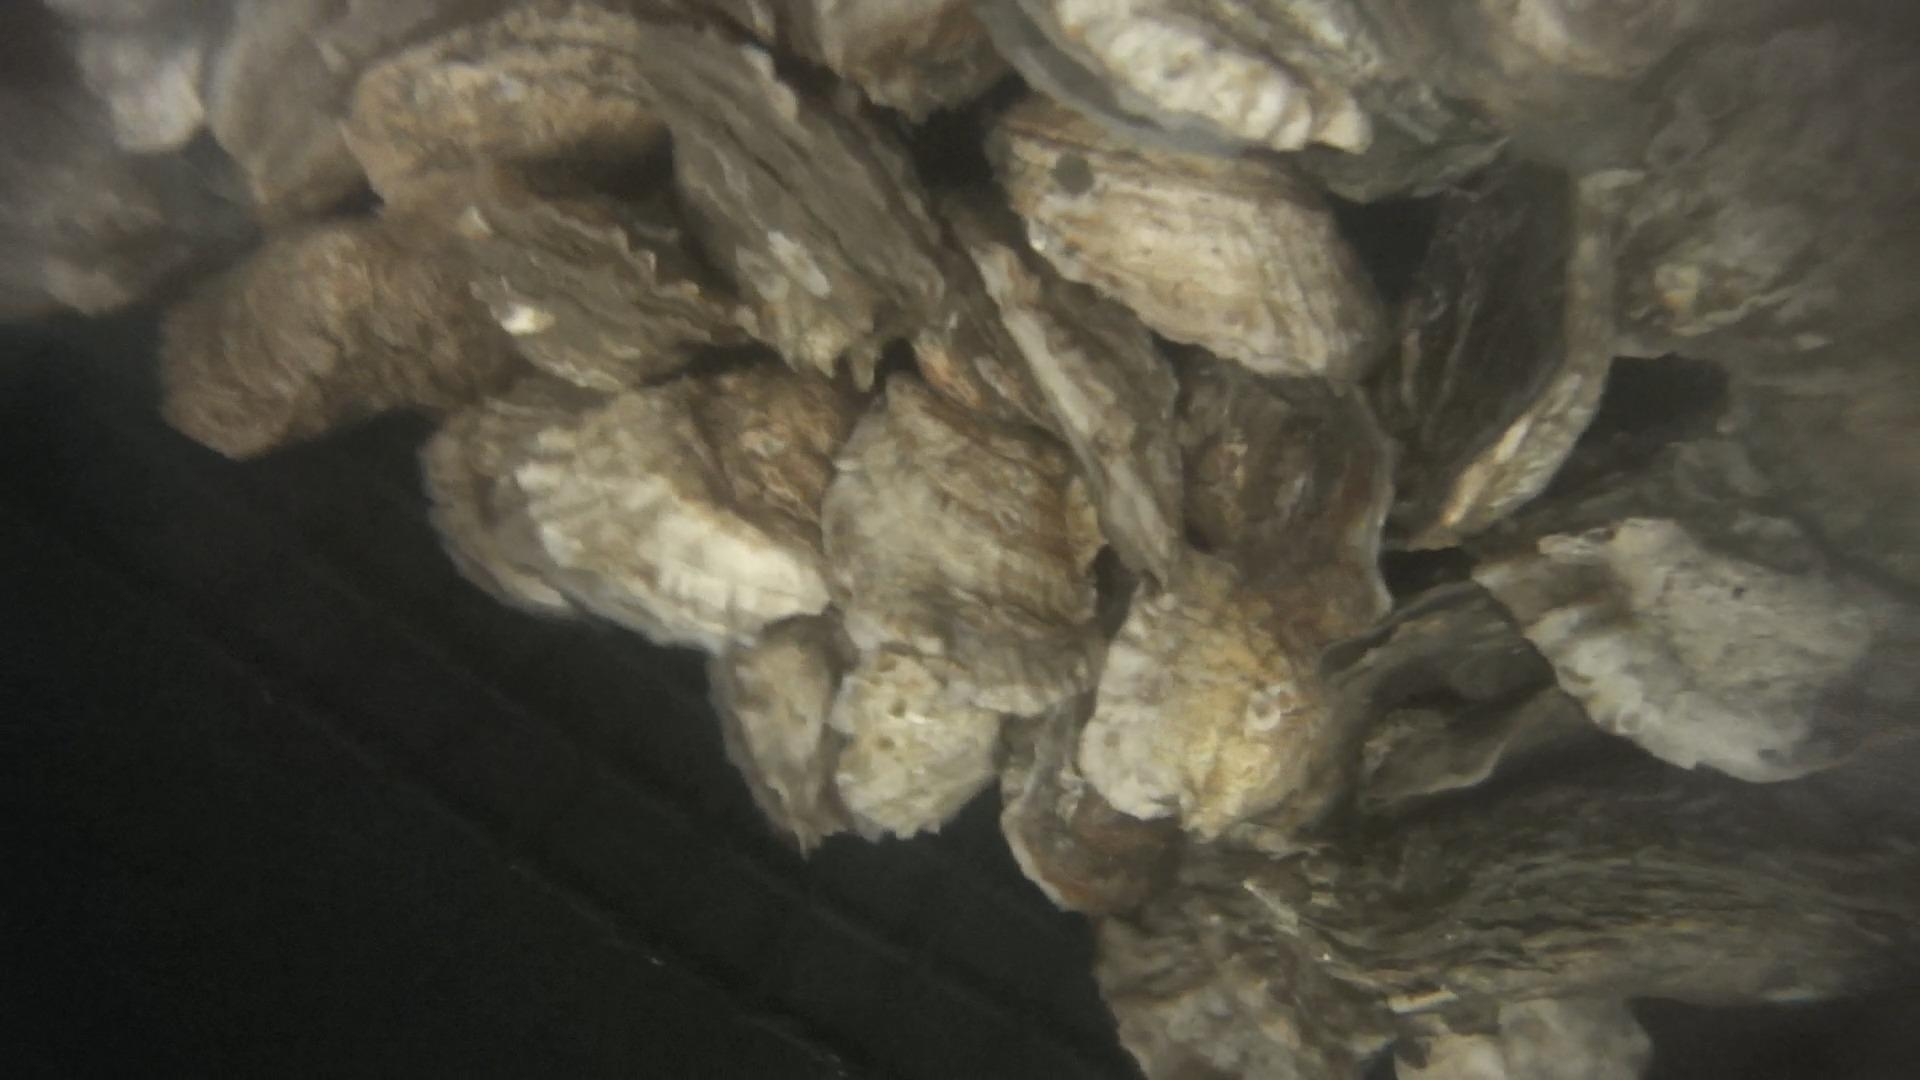3: (982, 94, 1375, 375), (967, 0, 1371, 156)
Oyster-Closed: (637, 24, 945, 378)
Oyster-Open: (1485, 514, 1882, 785), (825, 377, 1108, 691), (1385, 164, 1611, 549), (516, 393, 829, 657), (156, 227, 502, 464)
